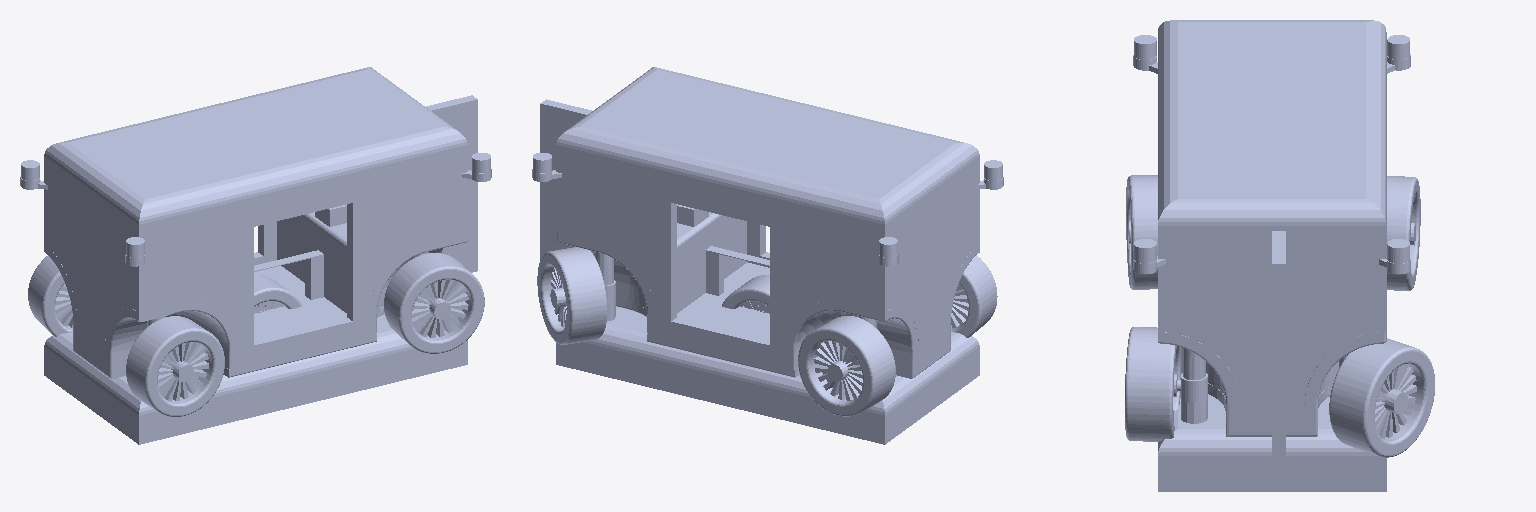
URDF robot description (robotaxi):
<?xml version="1.0" ?>
<!-- This URDF was automatically created by SolidWorks to URDF Exporter! Originally created by [author] ([email redacted]) 
     Commit Version: 1.6.0-4-g7f85cfe  Build Version: 1.6.7995.38578
     For more information, please see http://wiki.ros.org/sw_urdf_exporter -->
<robot
  name="robotaxi" xmlns:xacro="http://ros.org/wiki/xacro">
  <link
    name="body">
    <inertial>
      <origin
        xyz="-5.21780361655602E-05 -2.37407212439023E-05 0.604812969920948"
        rpy="0 0 0" />
      <mass
        value="4615.47805567614" />
      <inertia
        ixx="1863.24455406167"
        ixy="0.0132219930650718"
        ixz="-0.0745602857100425"
        iyy="8715.44296968045"
        iyz="-0.0273565484550983"
        izz="9003.50747380204" />
    </inertial>
    <visual>
      <origin
        xyz="0 0 0"
        rpy="0 0 0" />
      <geometry>
        <mesh
          filename="package://project_legion/meshes/body.STL" />
      </geometry>
      <material
        name="">
        <color
          rgba="0.250980392156863 0.250980392156863 0.250980392156863 1" />
      </material>
    </visual>
    <collision>
      <origin
        xyz="0 0 0"
        rpy="0 0 0" />
      <geometry>
        <mesh
          filename="package://project_legion/meshes/body.STL" />
      </geometry>
    </collision>
  </link>
  <link
    name="front_right_axel">
    <inertial>
      <origin
        xyz="1.59254307730881 -0.770387884139879 0.306936663484025"
        rpy="0 0 0" />
      <mass
        value="4.73802510796172" />
      <inertia
        ixx="0.0990829916203824"
        ixy="-0.00564103885906436"
        ixz="0.000108229508691783"
        iyy="0.0311714791660352"
        iyz="0.00131190404983014"
        izz="0.106577267989412" />
    </inertial>
    <visual>
      <origin
        xyz="0 0 0"
        rpy="0 0 0" />
      <geometry>
        <mesh
          filename="package://project_legion/meshes/front_right_axel.STL" />
      </geometry>
      <material
        name="">
        <color
          rgba="0.792156862745098 0.819607843137255 0.933333333333333 1" />
      </material>
    </visual>
    <collision>
      <origin
        xyz="0 0 0"
        rpy="0 0 0" />
      <geometry>
        <mesh
          filename="package://project_legion/meshes/front_right_axel.STL" />
      </geometry>
    </collision>
  </link>
  <joint
    name="front_right_axel_joint"
    type="revolute">
    <origin
      xyz="0 0 0"
      rpy="0 0 0" />
    <parent
      link="body" />
    <child
      link="front_right_axel" />
    <axis
      xyz="0 0 1" />
    <limit
      lower="0"
      upper="0"
      effort="0"
      velocity="0" />
  </joint>
  <link
    name="front_right_wheel">
    <inertial>
      <origin
        xyz="1.57025410376083 -1.04055974237639 0.309999999999996"
        rpy="0 0 0" />
      <mass
        value="220.204654088327" />
      <inertia
        ixx="19.7127728680101"
        ixy="1.16262531983733"
        ixz="5.70065896608079E-15"
        iyy="33.7094191498882"
        iyz="5.93281734338829E-14"
        izz="19.6168571900673" />
    </inertial>
    <visual>
      <origin
        xyz="0 0 0"
        rpy="0 0 0" />
      <geometry>
        <mesh
          filename="package://project_legion/meshes/front_right_wheel.STL" />
      </geometry>
      <material
        name="">
        <color
          rgba="0.792156862745098 0.819607843137255 0.933333333333333 1" />
      </material>
    </visual>
    <collision>
      <origin
        xyz="0 0 0"
        rpy="0 0 0" />
      <geometry>
        <mesh
          filename="package://project_legion/meshes/front_right_wheel.STL" />
      </geometry>
    </collision>
  </link>
  <joint
    name="front_right_wheel_joint"
    type="revolute">
    <origin
      xyz="0 0 0"
      rpy="0 0 0" />
    <parent
      link="front_right_axel" />
    <child
      link="front_right_wheel" />
    <axis
      xyz="0.0822198916962624 0.996614212927678 0" />
    <limit
      lower="0"
      upper="0"
      effort="0"
      velocity="0" />
  </joint>
  <link
    name="front_left_axel">
    <inertial>
      <origin
        xyz="1.6565368692559 0.750916554199098 0.30693666413595"
        rpy="0 0 0" />
      <mass
        value="4.73802513910441" />
      <inertia
        ixx="0.0727966036899852"
        ixy="-0.033555856058096"
        ixz="-0.0008205838617529"
        iyy="0.0574578673139121"
        iyz="-0.00102929493752076"
        izz="0.106577268204647" />
    </inertial>
    <visual>
      <origin
        xyz="0 0 0"
        rpy="0 0 0" />
      <geometry>
        <mesh
          filename="package://project_legion/meshes/front_left_axel.STL" />
      </geometry>
      <material
        name="">
        <color
          rgba="0.792156862745098 0.819607843137255 0.933333333333333 1" />
      </material>
    </visual>
    <collision>
      <origin
        xyz="0 0 0"
        rpy="0 0 0" />
      <geometry>
        <mesh
          filename="package://project_legion/meshes/front_left_axel.STL" />
      </geometry>
    </collision>
  </link>
  <joint
    name="front_left_axel_joint"
    type="revolute">
    <origin
      xyz="0 0 0"
      rpy="0 0 0" />
    <parent
      link="body" />
    <child
      link="front_left_axel" />
    <axis
      xyz="0 0 1" />
    <limit
      lower="0"
      upper="0"
      effort="0"
      velocity="0" />
  </joint>
  <link
    name="front_left_wheel">
    <inertial>
      <origin
        xyz="1.82552714195732 0.962888059850802 0.310000000000004"
        rpy="0 0 0" />
      <mass
        value="220.204654088327" />
      <inertia
        ixx="25.1304300235974"
        ixy="6.91590337281265"
        ixz="2.78109008982202E-14"
        iyy="28.2917619943008"
        iyz="2.83392710451218E-14"
        izz="19.6168571900673" />
    </inertial>
    <visual>
      <origin
        xyz="0 0 0"
        rpy="0 0 0" />
      <geometry>
        <mesh
          filename="package://project_legion/meshes/front_left_wheel.STL" />
      </geometry>
      <material
        name="">
        <color
          rgba="0.792156862745098 0.819607843137255 0.933333333333333 1" />
      </material>
    </visual>
    <collision>
      <origin
        xyz="0 0 0"
        rpy="0 0 0" />
      <geometry>
        <mesh
          filename="package://project_legion/meshes/front_left_wheel.STL" />
      </geometry>
    </collision>
  </link>
  <joint
    name="front_left_wheel_joint"
    type="revolute">
    <origin
      xyz="0 0 0"
      rpy="0 0 0" />
    <parent
      link="front_left_axel" />
    <child
      link="front_left_wheel" />
    <axis
      xyz="-0.623373961813521 -0.781923847783731 0" />
    <limit
      lower="0"
      upper="0"
      effort="0"
      velocity="0" />
  </joint>
  <link
    name="back_left_axel">
    <inertial>
      <origin
        xyz="-1.59022260058956 0.770166389684527 0.306936663157127"
        rpy="0 0 0" />
      <mass
        value="4.73802514179161" />
      <inertia
        ixx="0.0987482879826517"
        ixy="-0.00737831489877384"
        ixz="-0.000141909273981146"
        iyy="0.0315061827691447"
        iyz="-0.00130868926283995"
        izz="0.106577267921633" />
    </inertial>
    <visual>
      <origin
        xyz="0 0 0"
        rpy="0 0 0" />
      <geometry>
        <mesh
          filename="package://project_legion/meshes/back_left_axel.STL" />
      </geometry>
      <material
        name="">
        <color
          rgba="0.792156862745098 0.819607843137255 0.933333333333333 1" />
      </material>
    </visual>
    <collision>
      <origin
        xyz="0 0 0"
        rpy="0 0 0" />
      <geometry>
        <mesh
          filename="package://project_legion/meshes/back_left_axel.STL" />
      </geometry>
    </collision>
  </link>
  <joint
    name="back_left_axel_joint"
    type="revolute">
    <origin
      xyz="0 0 0"
      rpy="0 0 0" />
    <parent
      link="body" />
    <child
      link="back_left_axel" />
    <axis
      xyz="0 0 1" />
    <limit
      lower="0"
      upper="0"
      effort="0"
      velocity="0" />
  </joint>
  <link
    name="back_left_wheel">
    <inertial>
      <origin
        xyz="-1.56099765956285 1.03967619271508 0.310000000000004"
        rpy="0 0 0" />
      <mass
        value="220.204654088327" />
      <inertia
        ixx="19.7817557340667"
        ixy="1.52068003676715"
        ixz="-1.41066843422813E-16"
        iyy="33.6404362838315"
        iyz="5.35623170831363E-14"
        izz="19.6168571900673" />
    </inertial>
    <visual>
      <origin
        xyz="0 0 0"
        rpy="0 0 0" />
      <geometry>
        <mesh
          filename="package://project_legion/meshes/back_left_wheel.STL" />
      </geometry>
      <material
        name="">
        <color
          rgba="0.792156862745098 0.819607843137255 0.933333333333333 1" />
      </material>
    </visual>
    <collision>
      <origin
        xyz="0 0 0"
        rpy="0 0 0" />
      <geometry>
        <mesh
          filename="package://project_legion/meshes/back_left_wheel.STL" />
      </geometry>
    </collision>
  </link>
  <joint
    name="back_left_wheel_joint"
    type="revolute">
    <origin
      xyz="0 0 0"
      rpy="0 0 0" />
    <parent
      link="back_left_axel" />
    <child
      link="back_left_wheel" />
    <axis
      xyz="-0.107805398797207 -0.99417201529221 0" />
    <limit
      lower="0"
      upper="0"
      effort="0"
      velocity="0" />
  </joint>
  <link
    name="back_right_axel">
    <inertial>
      <origin
        xyz="-1.59503401167827 -0.770558897464385 0.306936665235939"
        rpy="0 0 0" />
      <mass
        value="4.73802497254448" />
      <inertia
        ixx="0.0993419772005463"
        ixy="0.00376378875483251"
        ixz="-7.20785636933185E-05"
        iyy="0.0309124938085499"
        iyz="0.00131438606605443"
        izz="0.106577268357977" />
    </inertial>
    <visual>
      <origin
        xyz="0 0 0"
        rpy="0 0 0" />
      <geometry>
        <mesh
          filename="package://project_legion/meshes/back_right_axel.STL" />
      </geometry>
      <material
        name="">
        <color
          rgba="0.792156862745098 0.819607843137255 0.933333333333333 1" />
      </material>
    </visual>
    <collision>
      <origin
        xyz="0 0 0"
        rpy="0 0 0" />
      <geometry>
        <mesh
          filename="package://project_legion/meshes/back_right_axel.STL" />
      </geometry>
    </collision>
  </link>
  <joint
    name="back_right_axel_joint"
    type="revolute">
    <origin
      xyz="0 0 0"
      rpy="0 0 0" />
    <parent
      link="body" />
    <child
      link="back_right_axel" />
    <axis
      xyz="0 0 1" />
    <limit
      lower="0"
      upper="0"
      effort="0"
      velocity="0" />
  </joint>
  <link
    name="back_right_wheel">
    <inertial>
      <origin
        xyz="-1.58019056769578 -1.04124193078514 0.309999999999997"
        rpy="0 0 0" />
      <mass
        value="220.204654088327" />
      <inertia
        ixx="19.6593954325899"
        ixy="-0.775721213261626"
        ixz="-1.12449279054662E-15"
        iyy="33.7627965853084"
        iyz="5.12487286095604E-14"
        izz="19.6168571900673" />
    </inertial>
    <visual>
      <origin
        xyz="0 0 0"
        rpy="0 0 0" />
      <geometry>
        <mesh
          filename="package://project_legion/meshes/back_right_wheel.STL" />
      </geometry>
      <material
        name="">
        <color
          rgba="0.792156862745098 0.819607843137255 0.933333333333333 1" />
      </material>
    </visual>
    <collision>
      <origin
        xyz="0 0 0"
        rpy="0 0 0" />
      <geometry>
        <mesh
          filename="package://project_legion/meshes/back_right_wheel.STL" />
      </geometry>
    </collision>
  </link>
  <joint
    name="back_right_wheel_joint"
    type="revolute">
    <origin
      xyz="0 0 0"
      rpy="0 0 0" />
    <parent
      link="back_right_axel" />
    <child
      link="back_right_wheel" />
    <axis
      xyz="-0.0547547589597665 0.998499832935018 0" />
    <limit
      lower="0"
      upper="0"
      effort="0"
      velocity="0" />
  </joint>
  <link
    name="lidar_front_right">
    <inertial>
      <origin
        xyz="2.10240622729717 -1.10240622729716 1.78815355406656"
        rpy="0 0 0" />
      <mass
        value="8.51764060451499" />
      <inertia
        ixx="0.0642189157299355"
        ixy="-0.000191353707477661"
        ixz="0.000174493122027139"
        iyy="0.0642189157299355"
        iyz="-0.000174493122027053"
        izz="0.0429541548113749" />
    </inertial>
    <visual>
      <origin
        xyz="0 0 0"
        rpy="0 0 0" />
      <geometry>
        <mesh
          filename="package://project_legion/meshes/lidar_front_right.STL" />
      </geometry>
      <material
        name="">
        <color
          rgba="0.792156862745098 0.819607843137255 0.933333333333333 1" />
      </material>
    </visual>
    <collision>
      <origin
        xyz="0 0 0"
        rpy="0 0 0" />
      <geometry>
        <mesh
          filename="package://project_legion/meshes/lidar_front_right.STL" />
      </geometry>
    </collision>
  </link>
  <joint
    name="lidar_front_right_joint"
    type="fixed">
    <origin
      xyz="0 0 0"
      rpy="0 0 0" />
    <parent
      link="body" />
    <child
      link="lidar_front_right" />
    <axis
      xyz="0 0 0" />
  </joint>
  <link
    name="lidar_front_left">
    <inertial>
      <origin
        xyz="2.10240622729716 1.10240622729716 1.78815355406657"
        rpy="0 0 0" />
      <mass
        value="8.51764060451499" />
      <inertia
        ixx="0.0642189157299355"
        ixy="0.000191353707477661"
        ixz="0.000174493122027142"
        iyy="0.0642189157299355"
        iyz="0.000174493122027214"
        izz="0.0429541548113749" />
    </inertial>
    <visual>
      <origin
        xyz="0 0 0"
        rpy="0 0 0" />
      <geometry>
        <mesh
          filename="package://project_legion/meshes/lidar_front_left.STL" />
      </geometry>
      <material
        name="">
        <color
          rgba="0.792156862745098 0.819607843137255 0.933333333333333 1" />
      </material>
    </visual>
    <collision>
      <origin
        xyz="0 0 0"
        rpy="0 0 0" />
      <geometry>
        <mesh
          filename="package://project_legion/meshes/lidar_front_left.STL" />
      </geometry>
    </collision>
  </link>
  <joint
    name="lidar_front_left_joint"
    type="fixed">
    <origin
      xyz="0 0 0"
      rpy="0 0 0" />
    <parent
      link="body" />
    <child
      link="lidar_front_left" />
    <axis
      xyz="0 0 0" />
  </joint>
  <link
    name="lidar_back_left">
    <inertial>
      <origin
        xyz="-2.10240622729717 1.10240622729715 1.78815355406657"
        rpy="0 0 0" />
      <mass
        value="8.51764060451498" />
      <inertia
        ixx="0.0642189157299355"
        ixy="-0.000191353707477656"
        ixz="-0.000174493122027137"
        iyy="0.0642189157299354"
        iyz="0.000174493122027215"
        izz="0.0429541548113749" />
    </inertial>
    <visual>
      <origin
        xyz="0 0 0"
        rpy="0 0 0" />
      <geometry>
        <mesh
          filename="package://project_legion/meshes/lidar_back_left.STL" />
      </geometry>
      <material
        name="">
        <color
          rgba="0.792156862745098 0.819607843137255 0.933333333333333 1" />
      </material>
    </visual>
    <collision>
      <origin
        xyz="0 0 0"
        rpy="0 0 0" />
      <geometry>
        <mesh
          filename="package://project_legion/meshes/lidar_back_left.STL" />
      </geometry>
    </collision>
  </link>
  <joint
    name="lidar_back_left_joint"
    type="fixed">
    <origin
      xyz="0 0 0"
      rpy="0 0 0" />
    <parent
      link="body" />
    <child
      link="lidar_back_left" />
    <axis
      xyz="0 0 0" />
  </joint>
  <link
    name="lidar_back_right">
    <inertial>
      <origin
        xyz="-2.10240622729716 -1.10240622729717 1.78815355406656"
        rpy="0 0 0" />
      <mass
        value="8.51764060451498" />
      <inertia
        ixx="0.0642189157299355"
        ixy="0.000191353707477663"
        ixz="-0.000174493122027135"
        iyy="0.0642189157299355"
        iyz="-0.000174493122027065"
        izz="0.0429541548113749" />
    </inertial>
    <visual>
      <origin
        xyz="0 0 0"
        rpy="0 0 0" />
      <geometry>
        <mesh
          filename="package://project_legion/meshes/lidar_back_right.STL" />
      </geometry>
      <material
        name="">
        <color
          rgba="0.792156862745098 0.819607843137255 0.933333333333333 1" />
      </material>
    </visual>
    <collision>
      <origin
        xyz="0 0 0"
        rpy="0 0 0" />
      <geometry>
        <mesh
          filename="package://project_legion/meshes/lidar_back_right.STL" />
      </geometry>
    </collision>
  </link>
  <joint
    name="lidar_back_right_joint"
    type="fixed">
    <origin
      xyz="0 0 0"
      rpy="0 0 0" />
    <parent
      link="body" />
    <child
      link="lidar_back_right" />
    <axis
      xyz="0 0 0" />
  </joint>
  <link
    name="side_pane_1">
    <inertial>
      <origin
        xyz="1.19387690613411E-15 0.939999999999996 1.22578533508363"
        rpy="0 0 0" />
      <mass
        value="269.579902102743" />
      <inertia
        ixx="29.0495518679719"
        ixy="-1.20383938267813E-16"
        ixz="3.27421223583015E-14"
        iyy="417.804106229136"
        iyz="9.89684859766926E-14"
        izz="389.401546126211" />
    </inertial>
    <visual>
      <origin
        xyz="0 0 0"
        rpy="0 0 0" />
      <geometry>
        <mesh
          filename="package://project_legion/meshes/side_pane_1.STL" />
      </geometry>
      <material
        name="">
        <color
          rgba="0.792156862745098 0.819607843137255 0.933333333333333 1" />
      </material>
    </visual>
    <collision>
      <origin
        xyz="0 0 0"
        rpy="0 0 0" />
      <geometry>
        <mesh
          filename="package://project_legion/meshes/side_pane_1.STL" />
      </geometry>
    </collision>
  </link>
  <joint
    name="side_pane_1_joint"
    type="fixed">
    <origin
      xyz="0 0 0"
      rpy="0 0 0" />
    <parent
      link="body" />
    <child
      link="side_pane_1" />
    <axis
      xyz="0 0 0" />
  </joint>
  <link
    name="side_pane_2">
    <inertial>
      <origin
        xyz="7.36854275917892E-17 -0.940000000000004 1.22578533508363"
        rpy="0 0 0" />
      <mass
        value="269.579902102743" />
      <inertia
        ixx="29.0495518679719"
        ixy="-1.20383938267801E-16"
        ixz="2.9415137108934E-14"
        iyy="417.804106229136"
        iyz="9.89935929190605E-14"
        izz="389.401546126211" />
    </inertial>
    <visual>
      <origin
        xyz="0 0 0"
        rpy="0 0 0" />
      <geometry>
        <mesh
          filename="package://project_legion/meshes/side_pane_2.STL" />
      </geometry>
      <material
        name="">
        <color
          rgba="0.792156862745098 0.819607843137255 0.933333333333333 1" />
      </material>
    </visual>
    <collision>
      <origin
        xyz="0 0 0"
        rpy="0 0 0" />
      <geometry>
        <mesh
          filename="package://project_legion/meshes/side_pane_2.STL" />
      </geometry>
    </collision>
  </link>
  <joint
    name="side_pane_2_joint"
    type="fixed">
    <origin
      xyz="0 0 0"
      rpy="0 0 0" />
    <parent
      link="body" />
    <child
      link="side_pane_2" />
    <axis
      xyz="0 0 0" />
  </joint>
  <link
    name="side_pane_3">
    <inertial>
      <origin
        xyz="-1.94 -4.0299328481463E-15 1.16174583422535"
        rpy="0 0 0" />
      <mass
        value="238.283902102743" />
      <inertia
        ixx="91.2445420486072"
        ixy="-2.58236719045494E-16"
        ixz="1.67397202198221E-16"
        iyy="30.1909069158719"
        iyz="-1.1589443866755E-13"
        izz="61.6255164977819" />
    </inertial>
    <visual>
      <origin
        xyz="0 0 0"
        rpy="0 0 0" />
      <geometry>
        <mesh
          filename="package://project_legion/meshes/side_pane_3.STL" />
      </geometry>
      <material
        name="">
        <color
          rgba="0.792156862745098 0.819607843137255 0.933333333333333 1" />
      </material>
    </visual>
    <collision>
      <origin
        xyz="0 0 0"
        rpy="0 0 0" />
      <geometry>
        <mesh
          filename="package://project_legion/meshes/side_pane_3.STL" />
      </geometry>
    </collision>
  </link>
  <joint
    name="side_pane_3_joint"
    type="fixed">
    <origin
      xyz="0 0 0"
      rpy="0 0 0" />
    <parent
      link="body" />
    <child
      link="side_pane_3" />
    <axis
      xyz="0 0 0" />
  </joint>
  <link
    name="side_pane_4">
    <inertial>
      <origin
        xyz="8.11876186905901E-17 -0.16174583422535 -0.0599999999999998"
        rpy="0 0 0" />
      <mass
        value="238.283902102743" />
      <inertia
        ixx="30.1909069158719"
        ixy="-1.35061898246685E-14"
        ixz="3.03407211392029E-16"
        iyy="61.6255164977819"
        iyz="4.1134269100746E-16"
        izz="91.2445420486072" />
    </inertial>
    <visual>
      <origin
        xyz="0 0 0"
        rpy="0 0 0" />
      <geometry>
        <mesh
          filename="package://project_legion/meshes/side_pane_4.STL" />
      </geometry>
      <material
        name="">
        <color
          rgba="0.792156862745098 0.819607843137255 0.933333333333333 1" />
      </material>
    </visual>
    <collision>
      <origin
        xyz="0 0 0"
        rpy="0 0 0" />
      <geometry>
        <mesh
          filename="package://project_legion/meshes/side_pane_4.STL" />
      </geometry>
    </collision>
  </link>
  <joint
    name="side_pane_4_joint"
    type="fixed">
    <origin
      xyz="2 0 1"
      rpy="-1.5707963267949 0 -1.5707963267949" />
    <parent
      link="body" />
    <child
      link="side_pane_4" />
    <axis
      xyz="0 0 0" />
  </joint>
  <link
    name="top">
    <inertial>
      <origin
        xyz="1.579007960937E-15 -8.23001329418906E-15 2.058474990647"
        rpy="0 0 0" />
      <mass
        value="1431.79274848221" />
      <inertia
        ixx="675.858793348103"
        ixy="-0.000168194562486687"
        ixz="5.13110389472562E-13"
        iyy="2286.6645250204"
        iyz="-1.99695025936543E-12"
        izz="2900.47257026417" />
    </inertial>
    <visual>
      <origin
        xyz="0 0 0"
        rpy="0 0 0" />
      <geometry>
        <mesh
          filename="package://project_legion/meshes/top.STL" />
      </geometry>
      <material
        name="">
        <color
          rgba="0.792156862745098 0.819607843137255 0.933333333333333 1" />
      </material>
    </visual>
    <collision>
      <origin
        xyz="0 0 0"
        rpy="0 0 0" />
      <geometry>
        <mesh
          filename="package://project_legion/meshes/top.STL" />
      </geometry>
    </collision>
  </link>
  <joint
    name="top_joint"
    type="fixed">
    <origin
      xyz="0 0 0"
      rpy="0 0 0" />
    <parent
      link="body" />
    <child
      link="top" />
    <axis
      xyz="0 0 0" />
  </joint>
</robot>

--- Facts derived from the render (not from the file) ---
The picture shows the robot from 3 angles, left to right: view 1: azimuth 30°, elevation 25°; view 2: azimuth 150°, elevation 25°; view 3: azimuth 270°, elevation 25°; orthographic projection.
Model robotaxi with 18 links and 17 joints (8 revolute, 9 fixed), rooted at body, posed all joints at 0.
Visible links, largest first — view 1: back_right_axel, top, front_right_wheel, side_pane_4, side_pane_2; view 2: back_right_axel, top, side_pane_4, side_pane_2; view 3: back_right_axel, top, front_right_wheel, side_pane_4.
Link boxes in pixels (<box>): back_right_axel: <box>20,67,491,416</box>; top: <box>44,314,467,444</box>; front_right_wheel: <box>384,253,484,353</box>; side_pane_4: <box>426,95,477,272</box>; side_pane_2: <box>254,250,323,299</box>; back_right_axel: <box>532,67,1003,416</box>; top: <box>556,306,979,444</box>; side_pane_4: <box>540,99,591,259</box>; side_pane_2: <box>706,246,769,295</box>; back_right_axel: <box>1126,20,1434,457</box>; top: <box>1158,394,1386,491</box>; front_right_wheel: <box>1125,327,1180,441</box>; side_pane_4: <box>1272,231,1285,470</box>.
Size in the robot's own frame: 4.91 by 2.71 by 2.92 metres.
Meshes: 18 distinct files referenced, 17 mesh visuals loaded (17 binary STL); not drawn: 1 (reference not matched to a file when rendering).